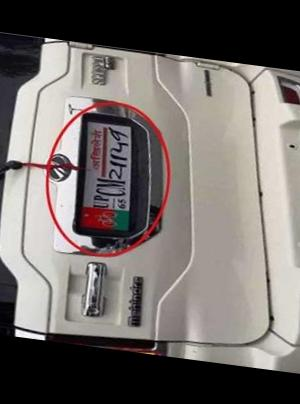plate: (67, 109, 152, 238)
